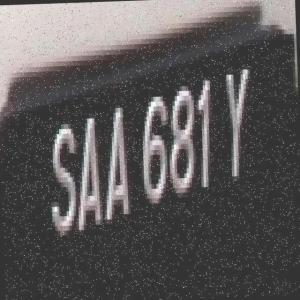Plate: (26, 60, 262, 251)
